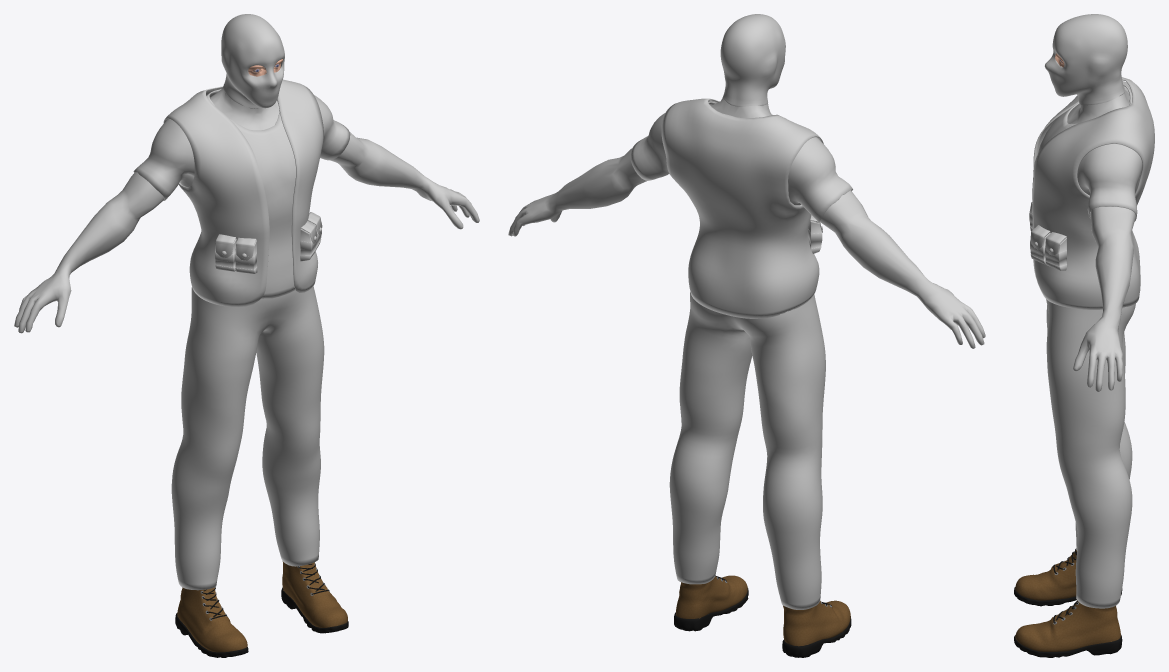
The model's file is enemyl.fbx.
3 views of the same model, side by side, from view 1: azimuth 30°, elevation 25°; view 2: azimuth 150°, elevation 25°; view 3: azimuth 270°, elevation 25° (orthographic). The views are drawn at different scales.
Parts seen in each view (by area): view 1: pantul, ceket, bodylowpoly, tisort, Left_Boot, head, cep; view 2: pantul, ceket, bodylowpoly, Left_Boot, head, tisort; view 3: pantul, ceket, bodylowpoly, Left_Boot, head, tisort, cep.
Part boxes in pixels (x1=…): pantul: x1=171, y1=286, x2=324, y2=590; ceket: x1=163, y1=79, x2=323, y2=307; bodylowpoly: x1=14, y1=87, x2=479, y2=333; tisort: x1=133, y1=89, x2=350, y2=298; Left_Boot: x1=175, y1=561, x2=348, y2=657; head: x1=221, y1=14, x2=284, y2=108; cep: x1=215, y1=212, x2=322, y2=273; pantul: x1=669, y1=292, x2=825, y2=609; ceket: x1=661, y1=98, x2=823, y2=318; bodylowpoly: x1=508, y1=98, x2=985, y2=348; Left_Boot: x1=674, y1=575, x2=851, y2=657; head: x1=720, y1=14, x2=785, y2=106; tisort: x1=630, y1=101, x2=852, y2=221; pantul: x1=1046, y1=299, x2=1135, y2=608; ceket: x1=1032, y1=77, x2=1154, y2=309; bodylowpoly: x1=1067, y1=86, x2=1135, y2=392; Left_Boot: x1=1014, y1=548, x2=1122, y2=657; head: x1=1044, y1=14, x2=1127, y2=105; tisort: x1=1038, y1=81, x2=1142, y2=221; cep: x1=1029, y1=202, x2=1067, y2=270.
Bounding box in the file's own units: 555 × 695 × 146.
